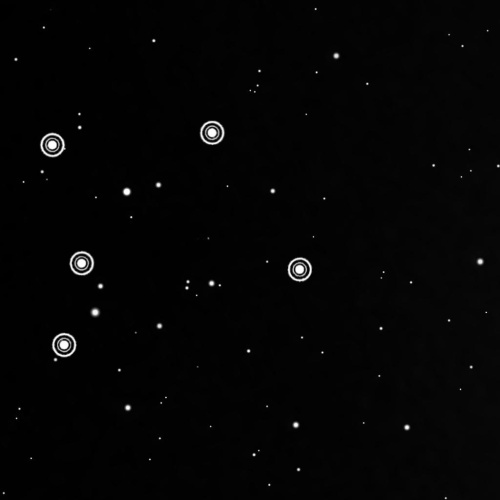libra: (33, 121, 323, 366)
